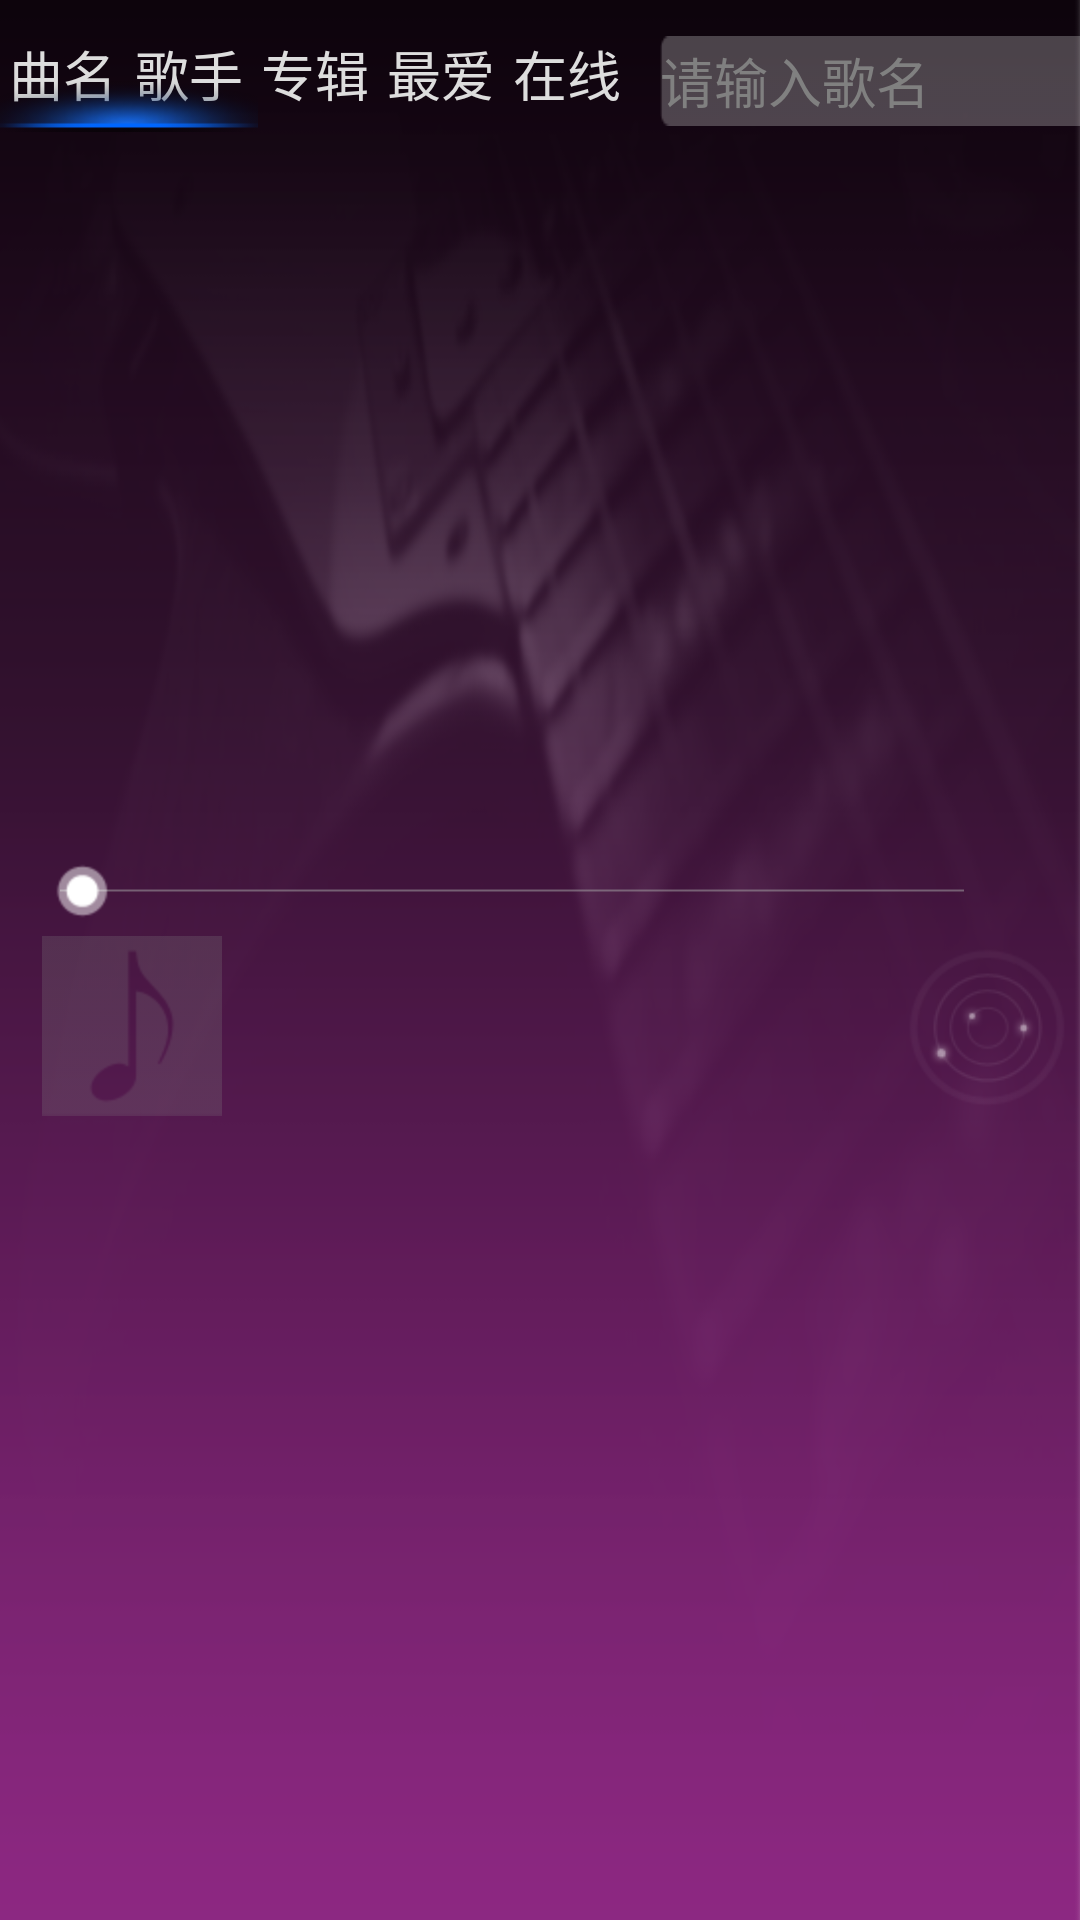

Where to tap for icons on this 1080×1920 app screen, as (x=x, y=y):
bottom album: (x=132, y=1025)
